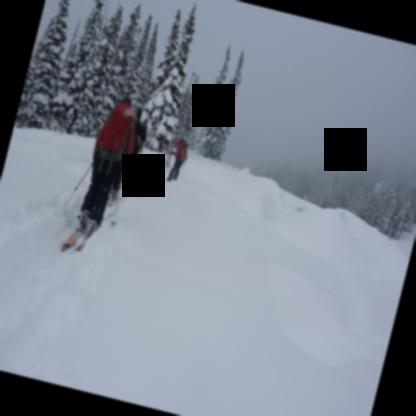backpack: (97, 102, 133, 175), (177, 138, 187, 162)
